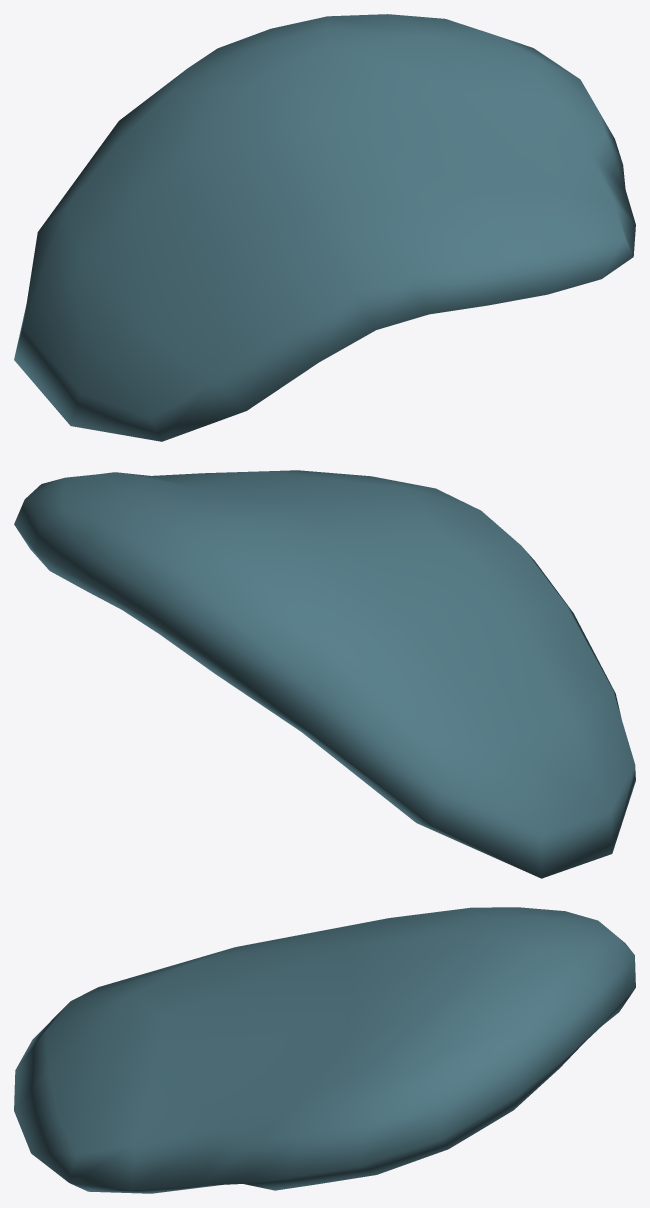
File: Extensor_digitorum_longus_&_brevis_on_4th_middle_phalanx.r_Gene.glb
3 renders of one model, top to bottom at view 1: azimuth 30°, elevation 25°; view 2: azimuth 150°, elevation 25°; view 3: azimuth 270°, elevation 25°, orthographic. The views are drawn at different scales.
Parts seen in each view (by area): view 1: Extensor_digitorum_longus_&_brevis_on_4th_middle_phalanx.r_G; view 2: Extensor_digitorum_longus_&_brevis_on_4th_middle_phalanx.r_G; view 3: Extensor_digitorum_longus_&_brevis_on_4th_middle_phalanx.r_G.
Part boxes in pixels (left/top/right/bottom): Extensor_digitorum_longus_&_brevis_on_4th_middle_phalanx.r_G: left=14, top=14, right=635, bottom=441; Extensor_digitorum_longus_&_brevis_on_4th_middle_phalanx.r_G: left=14, top=470, right=635, bottom=878; Extensor_digitorum_longus_&_brevis_on_4th_middle_phalanx.r_G: left=14, top=907, right=635, bottom=1193.
Size of the model in its own units: 0.0042 by 0.00205 by 0.0034.
